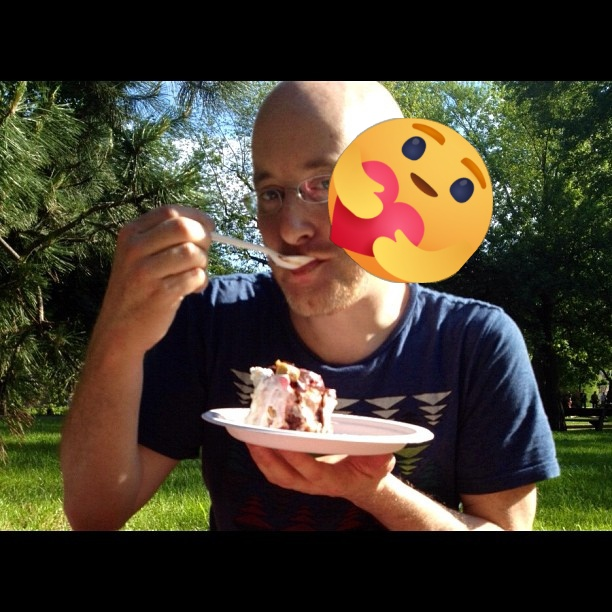care: (328, 118, 493, 283)
